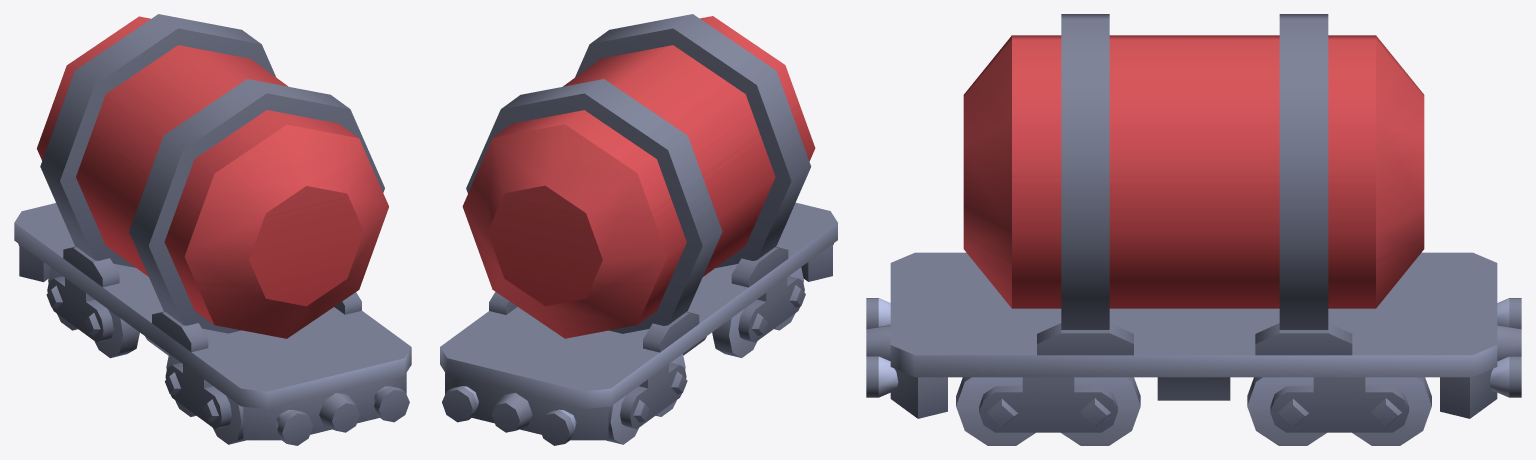
File: kenney-train-train-carriage-tank.glb
The picture shows the model from 3 angles, left to right: view 1: azimuth 30°, elevation 25°; view 2: azimuth 150°, elevation 25°; view 3: azimuth 270°, elevation 25°; orthographic projection. The views are drawn at different scales.
Parts seen in each view (by area): view 1: train-carriage-tank; view 2: train-carriage-tank; view 3: train-carriage-tank.
Part boxes in pixels (bbox=[...]): train-carriage-tank: bbox=[14, 14, 411, 445]; train-carriage-tank: bbox=[440, 14, 837, 445]; train-carriage-tank: bbox=[866, 14, 1521, 445].
Bounding box in the file's own units: 1.39 × 1.75 × 2.7.
1 material, 1 textured.
